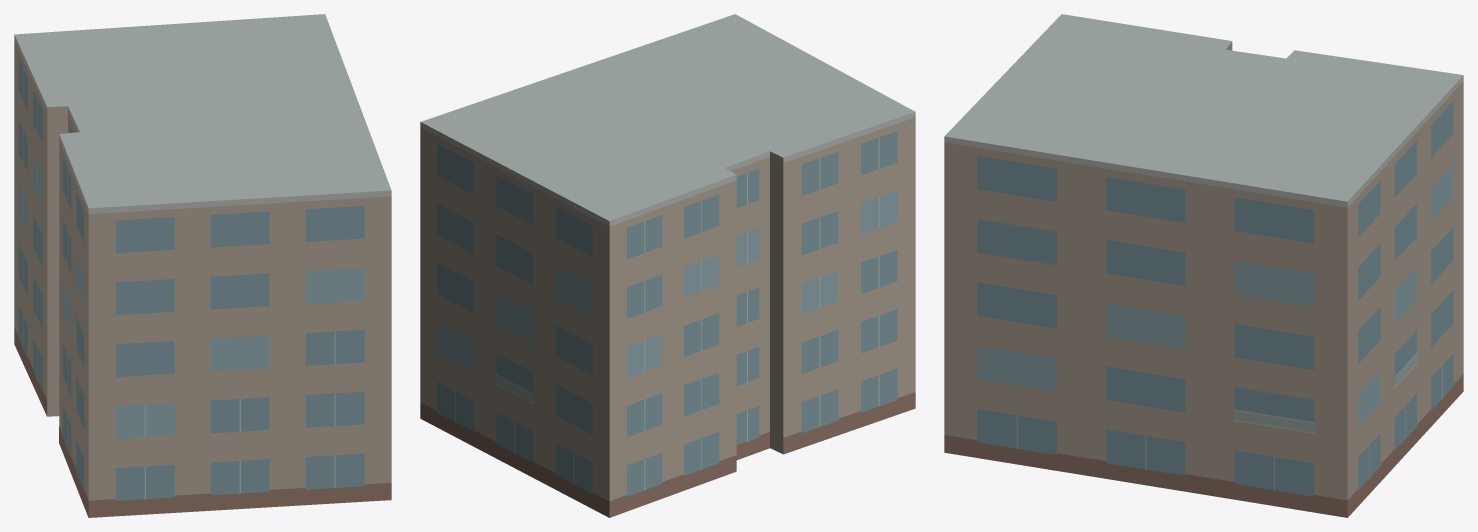
Rendered from survey-upis-33045477.glb.
3 views of the same model, side by side, from view 1: azimuth 30°, elevation 25°; view 2: azimuth 150°, elevation 25°; view 3: azimuth 270°, elevation 25° (orthographic). The views are drawn at different scales.
Parts seen in each view (by area): view 1: survey-upis-33045477.tmp; view 2: survey-upis-33045477.tmp; view 3: survey-upis-33045477.tmp.
Boxes of the visible parts, x1,y1,x2,y2 form: survey-upis-33045477.tmp: (14,14,391,517); survey-upis-33045477.tmp: (420,14,915,517); survey-upis-33045477.tmp: (944,14,1463,517).
Bounding box in the file's own units: 16.69 × 13.1 × 19.51.
